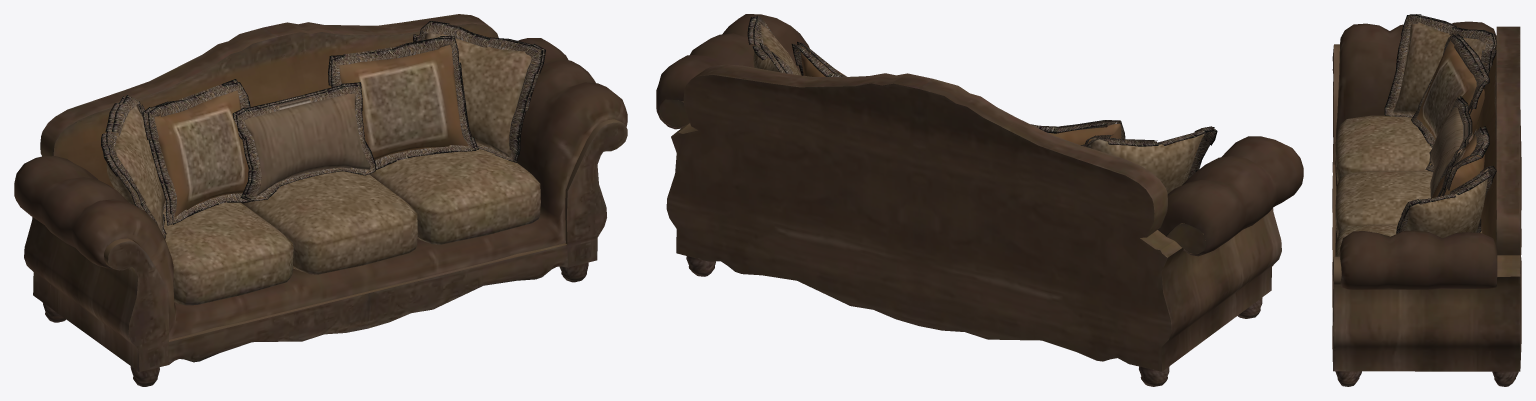
File: sofa_03.glb
3 views of the same model, side by side, from view 1: azimuth 30°, elevation 25°; view 2: azimuth 150°, elevation 25°; view 3: azimuth 270°, elevation 25° (orthographic). The views are drawn at different scales.
Parts seen in each view (by area): view 1: sofa_03; view 2: sofa_03; view 3: sofa_03.
Part boxes in pixels (x1,y1,x2,y2): sofa_03: (14, 14, 627, 386); sofa_03: (656, 14, 1303, 386); sofa_03: (1332, 14, 1521, 386).
Bounding box in the file's own units: 2.73 × 1.12 × 0.925.
2 materials, 2 textured.
